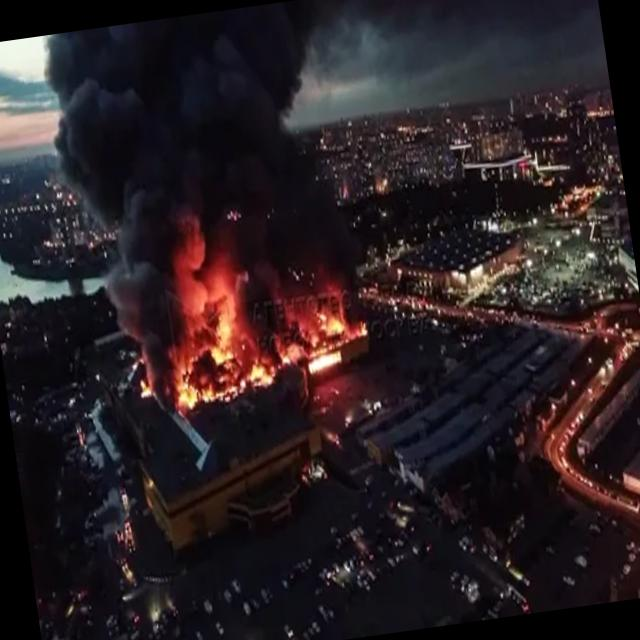Smoke: (40, 0, 377, 386)
